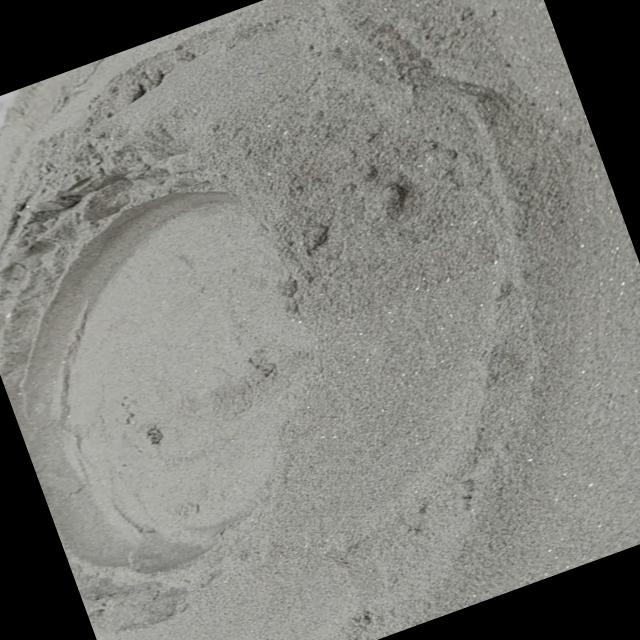C40: (0, 192, 300, 584)
